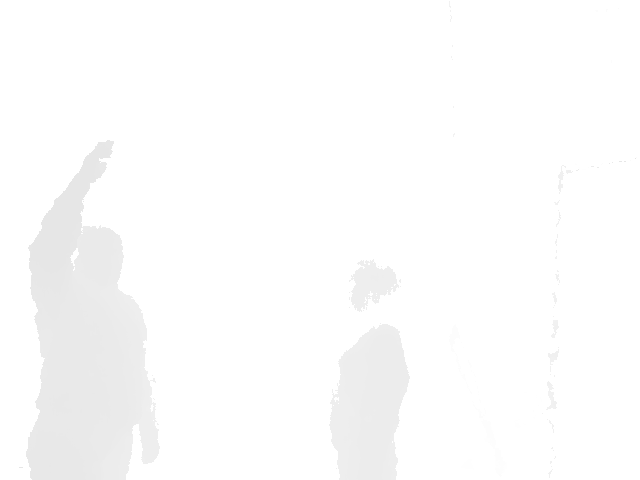hand: (80, 141, 115, 185)
head: (73, 225, 125, 293), (350, 258, 400, 316)
person: (24, 141, 160, 480), (327, 258, 413, 480)
